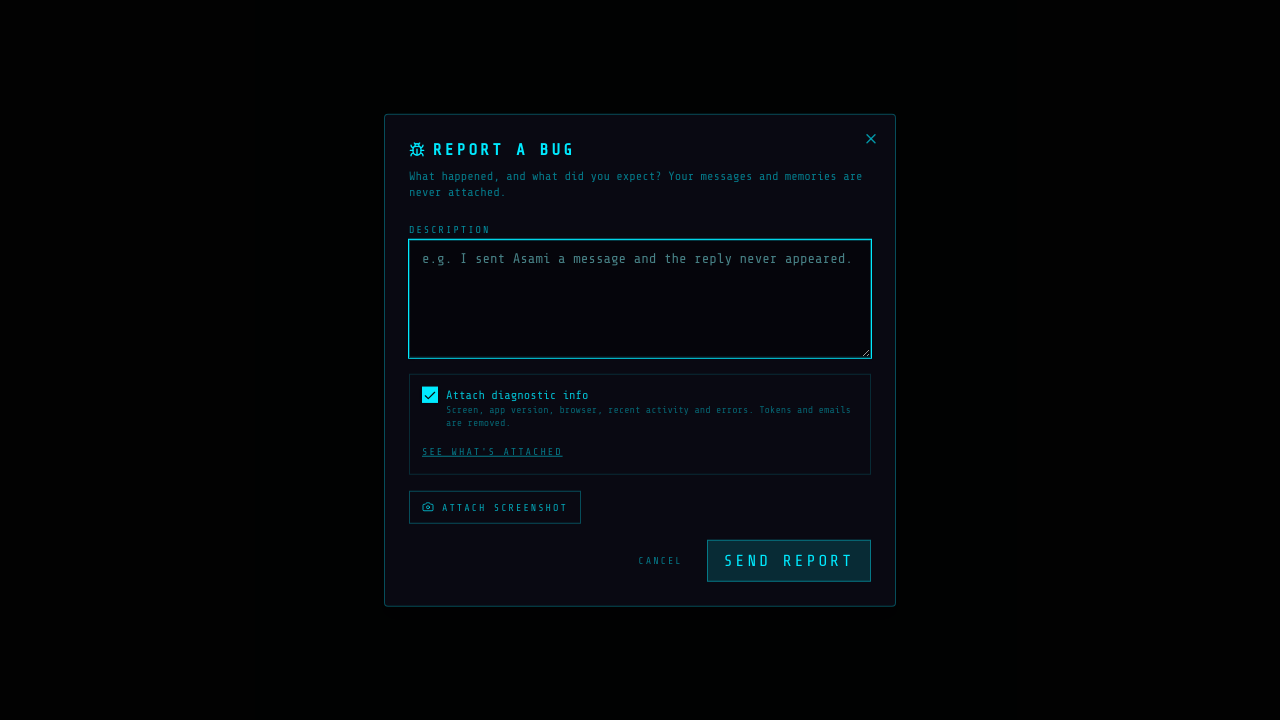
Test: ReportBugDialog › shows the server's error and stays open
Type "Broken thing" into the text box.
click(640, 299); type("Broken thing")  # box [409,240,871,358]
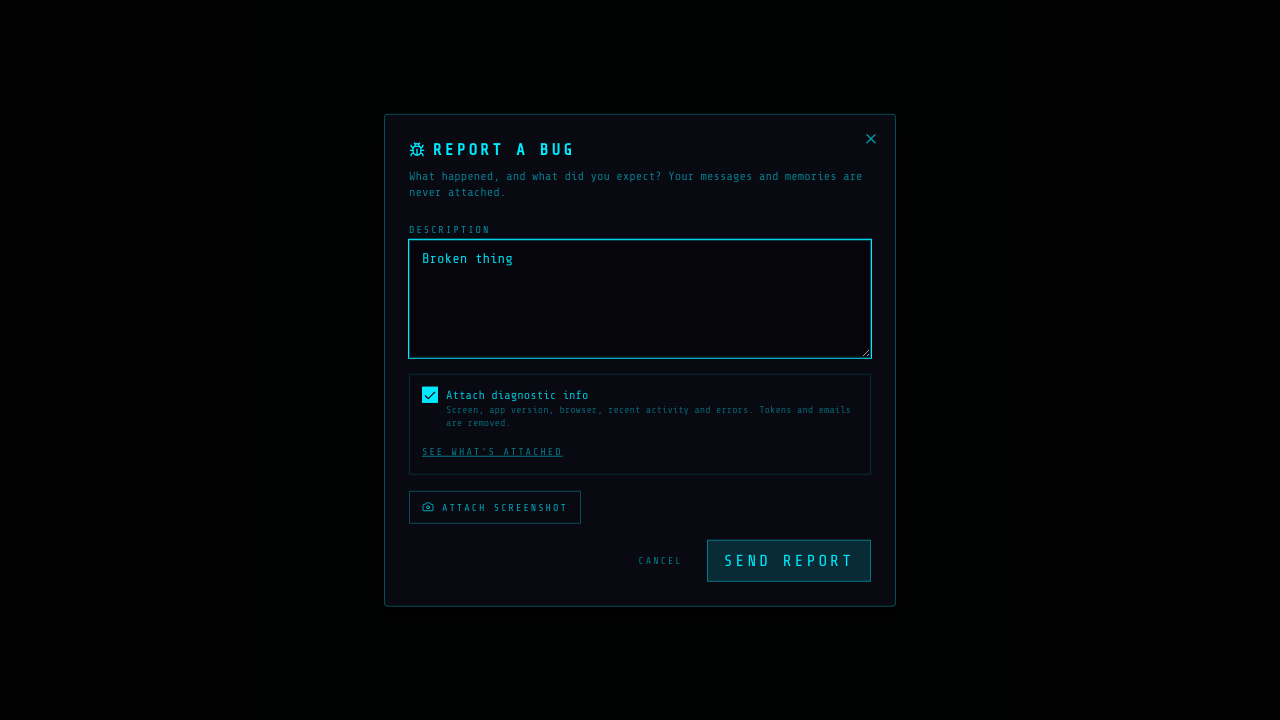
Click the button "Send report".
click(789, 560)  # box [707,539,871,581]
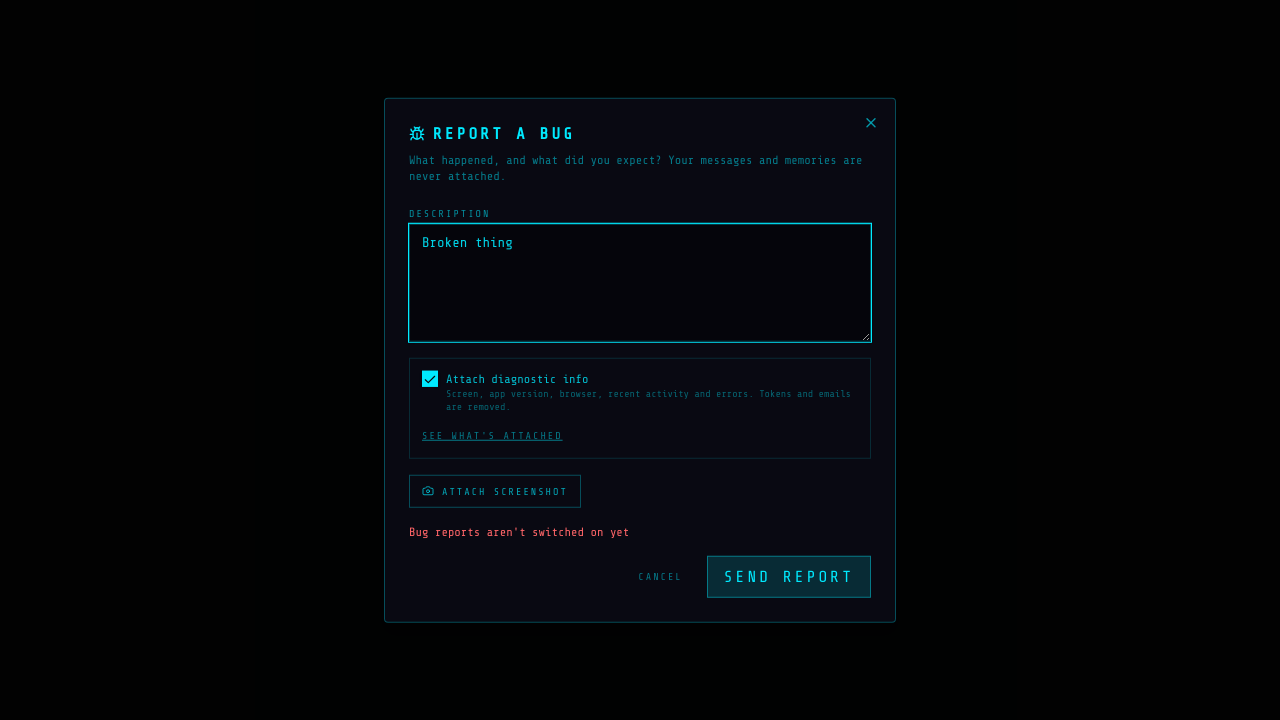
Now the message shows "switched on", box [409,524,629,538]
